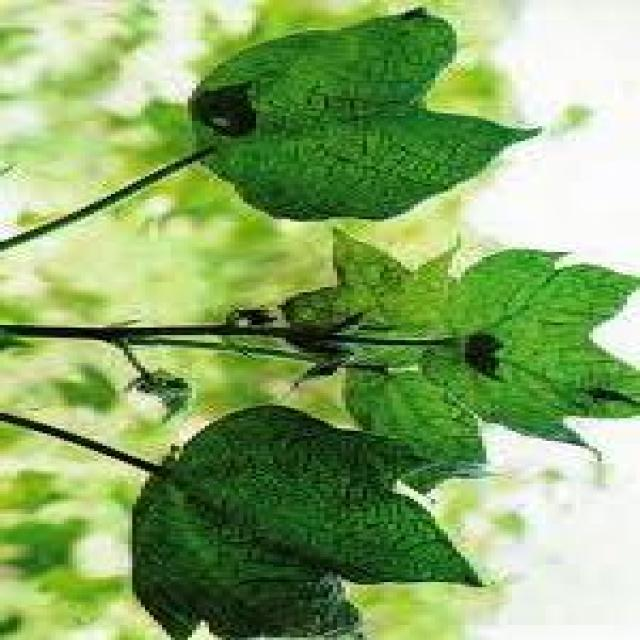Leaf Curl Virus: (132, 36, 558, 486)
